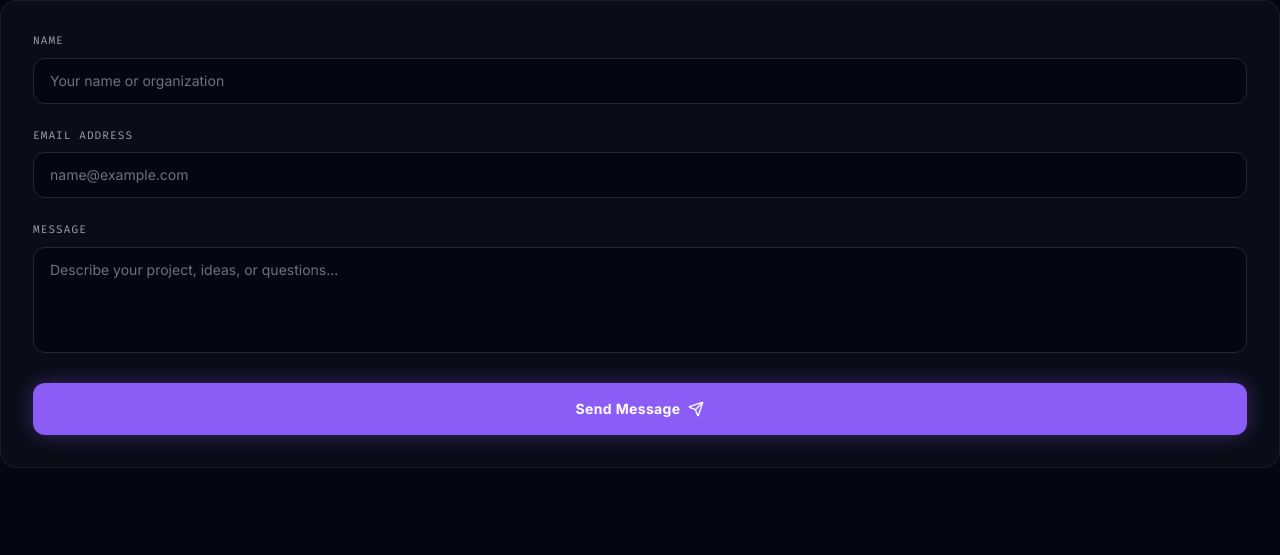
ContactForm component › displays error banner alert when submission fails
The image size is (1280, 555).
Type "Commander Shepard" into the field labelled "Name" at (640, 80), box x1=33 y1=58 x2=1247 y2=104
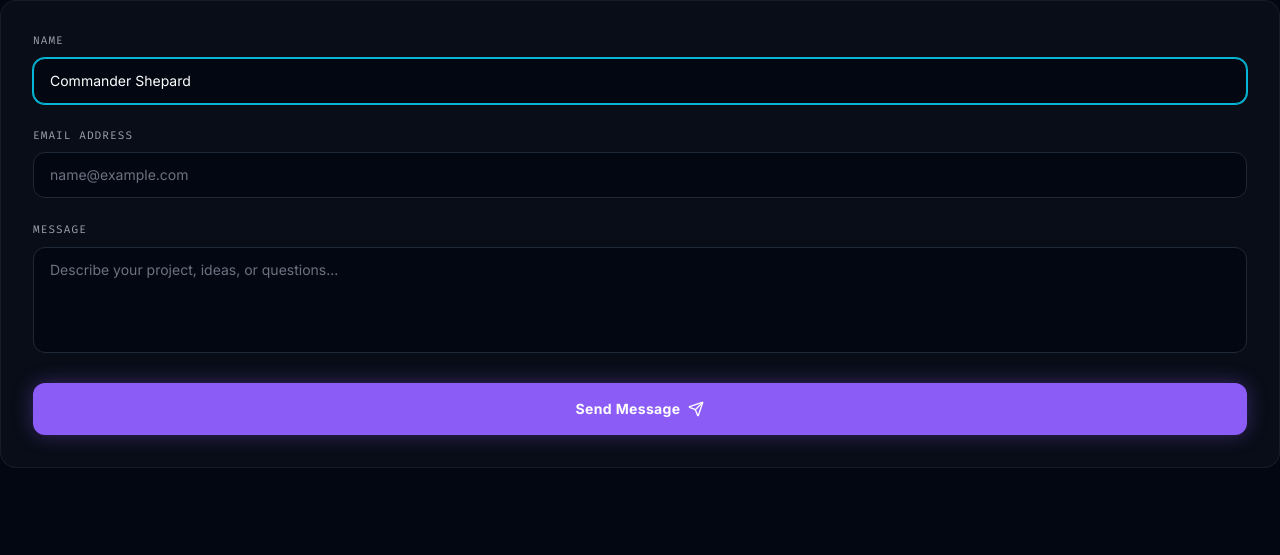
Type "shepard@cosmos.dev" into the field labelled "Email Address" at (640, 175), box x1=33 y1=152 x2=1247 y2=198
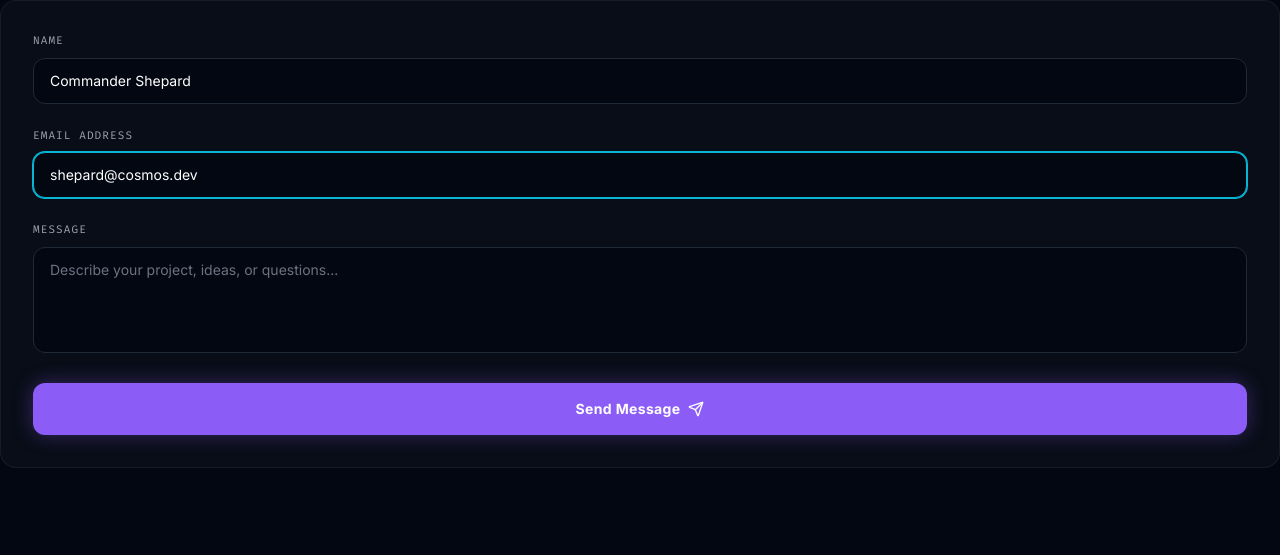
Type "Valid message exceeding required characters." into the text box labelled "Message" at (640, 300), box x1=33 y1=246 x2=1247 y2=352
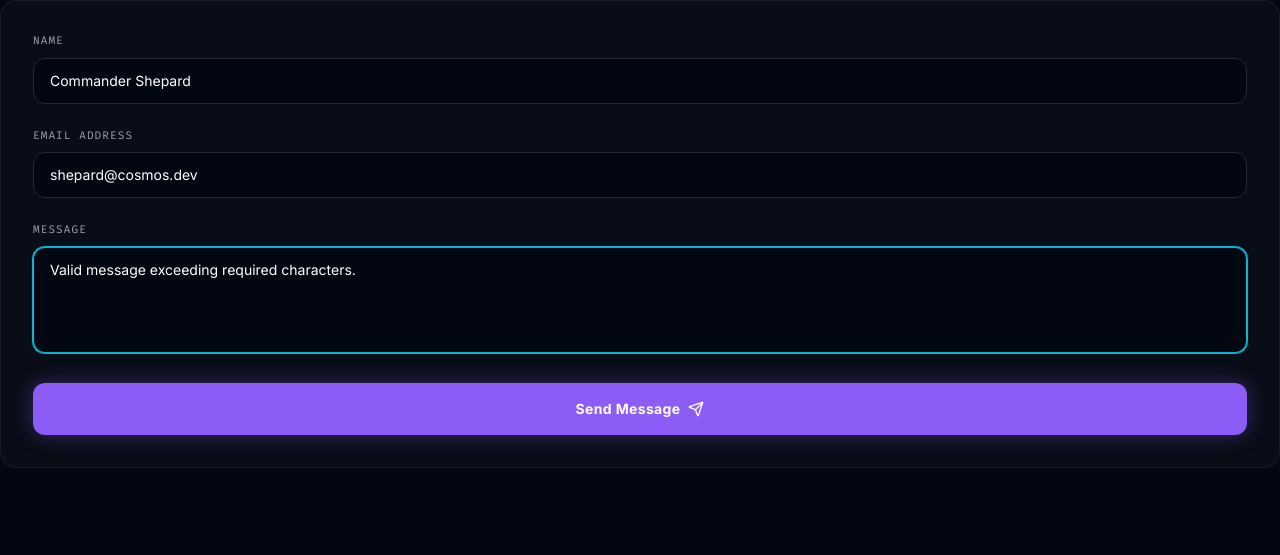
Submit the form "Name Email Address Message Send Message"
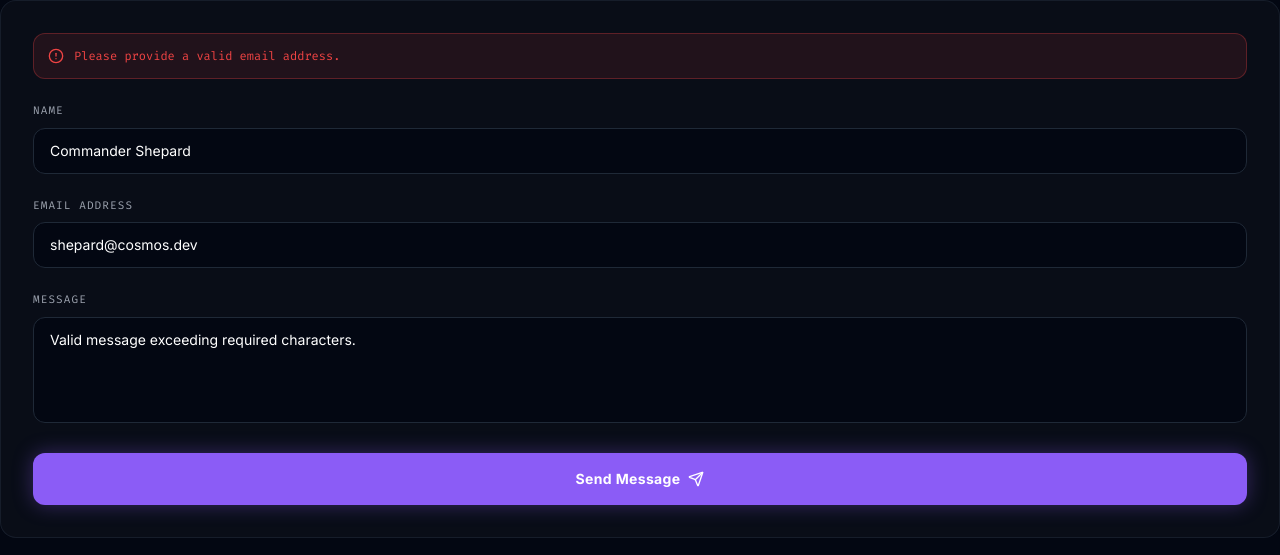
Expected: the message "Please provide a valid email address." is shown, x1=33 y1=33 x2=1247 y2=79
Expected: the message reads "Please provide a valid email address.", x1=74 y1=48 x2=340 y2=64
